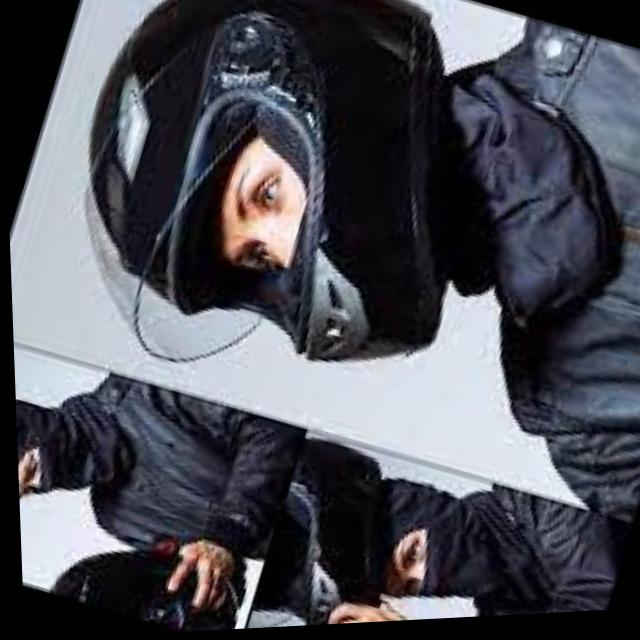WITH_HELMET: (16, 0, 537, 447), (233, 432, 414, 631)
